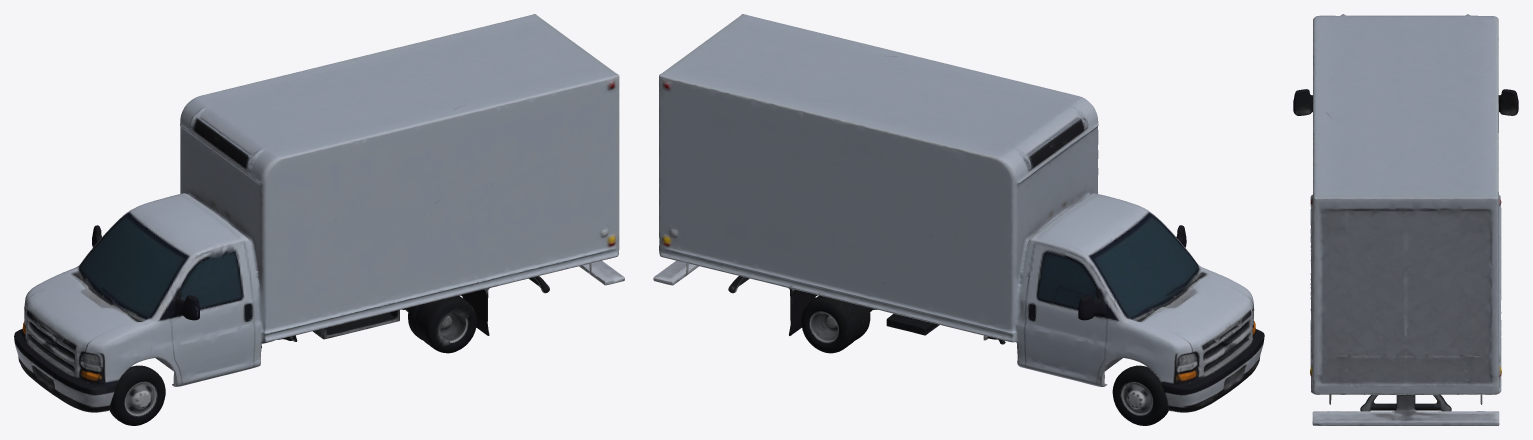
The model's file is boxtruck.glb.
3 views of the same model, side by side, from view 1: azimuth 30°, elevation 25°; view 2: azimuth 150°, elevation 25°; view 3: azimuth 270°, elevation 25° (orthographic). The views are drawn at different scales.
Size of the model in its own units: 1.9 by 0.8028 by 0.6281.
Materials: 1 (1 with a texture image).
